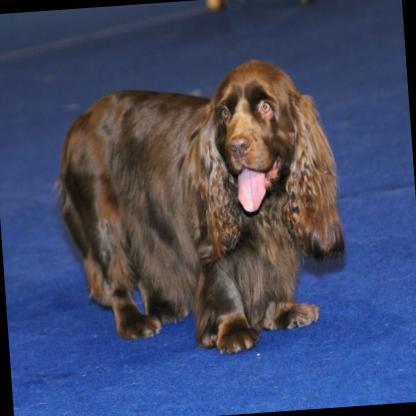Sussex_spaniel: (43, 53, 350, 366)
